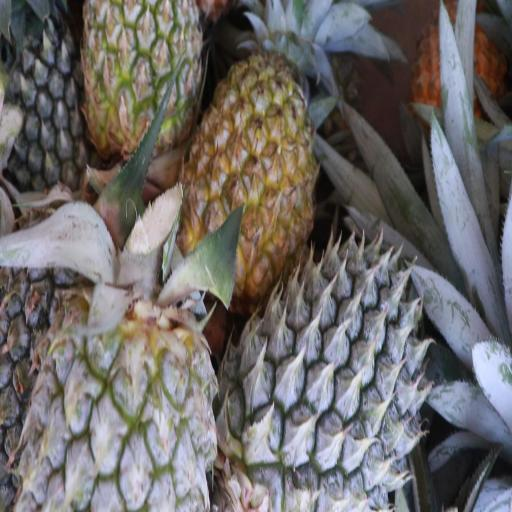------------------------------: (81, 0, 199, 151)
Pineapple - v8 v1: (187, 58, 314, 293)
